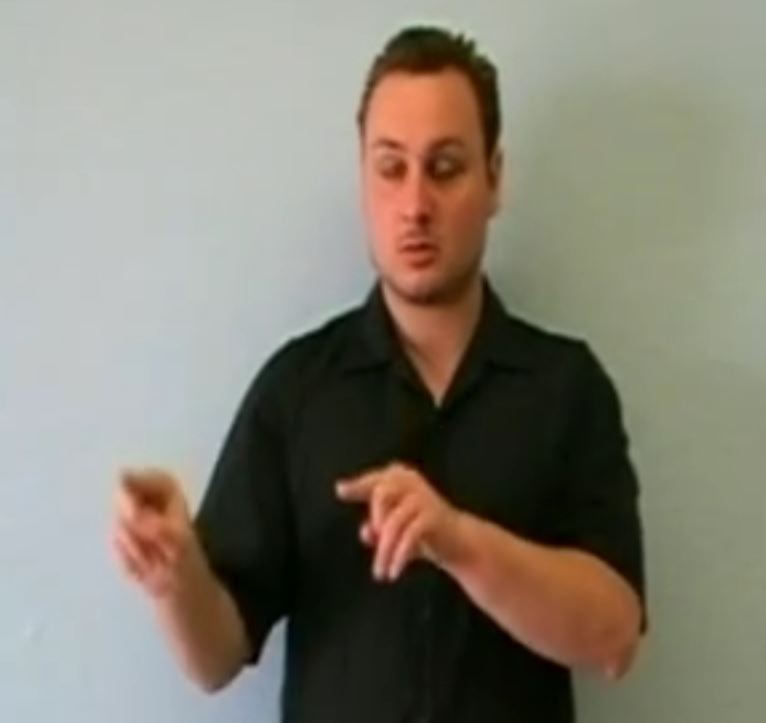go: (96, 437, 469, 657)
